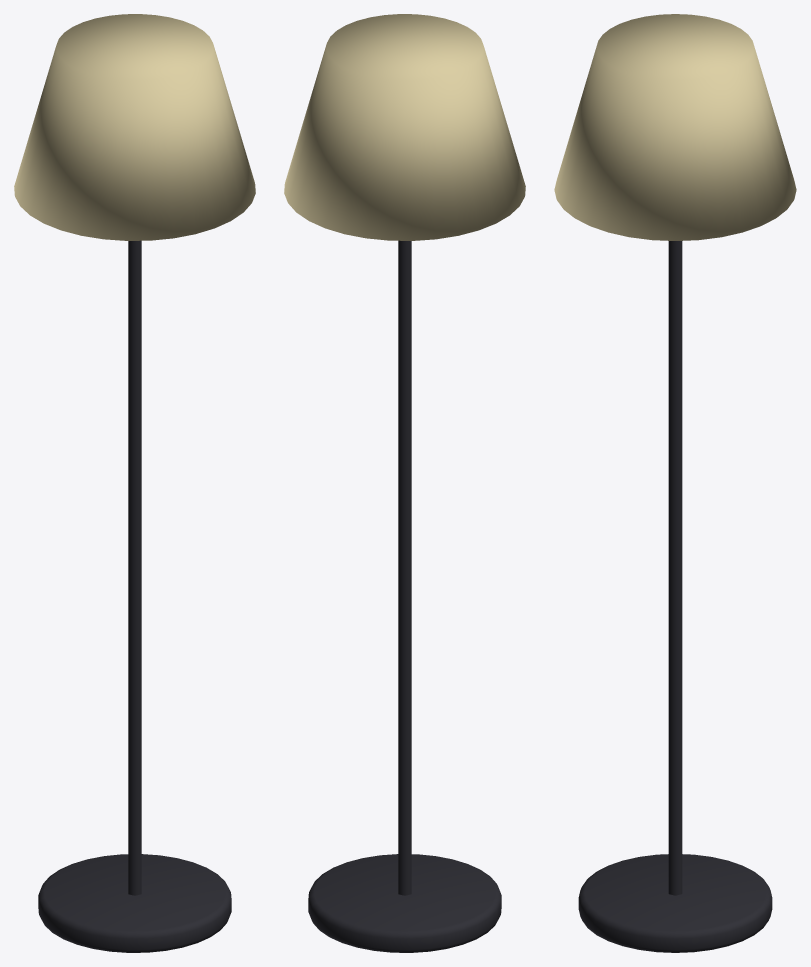
File: floor_lamp.glb
3 views of the same model, side by side, from view 1: azimuth 30°, elevation 25°; view 2: azimuth 150°, elevation 25°; view 3: azimuth 270°, elevation 25° (orthographic).
Visible parts, largest first — view 1: floor_lamp; view 2: floor_lamp; view 3: floor_lamp.
Part boxes in pixels (<box>): floor_lamp: <box>14,14,255,952</box>; floor_lamp: <box>284,14,525,952</box>; floor_lamp: <box>554,14,796,952</box>.
Bounding box in the file's own units: 0.4 × 1.58 × 0.4.
